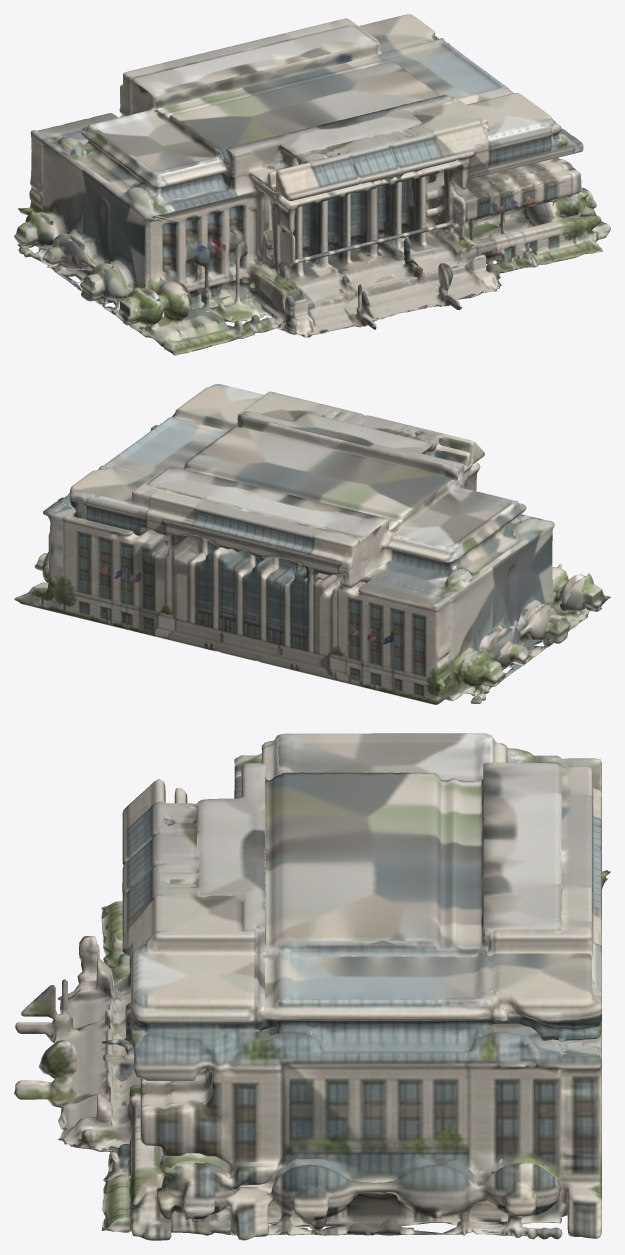
File: grand_civic_building.glb
3 views of the same model, one above another, from view 1: azimuth 30°, elevation 25°; view 2: azimuth 150°, elevation 25°; view 3: azimuth 270°, elevation 25° (orthographic). The views are drawn at different scales.
Visible parts, largest first — view 1: geometry_0; view 2: geometry_0; view 3: geometry_0.
Boxes of the visible parts, bbox=[...] form: geometry_0: bbox=[14, 14, 610, 355]; geometry_0: bbox=[14, 384, 610, 704]; geometry_0: bbox=[14, 733, 610, 1240].
Bounding box in the file's own units: 2.12 × 0.6224 × 1.49.
Materials: 1 (1 with a texture image).
